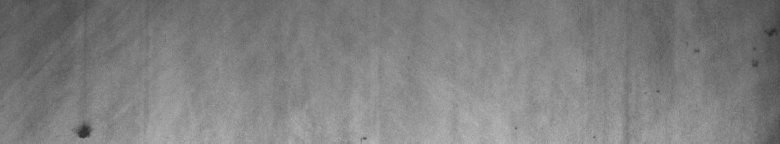fi: (68, 114, 100, 136)
